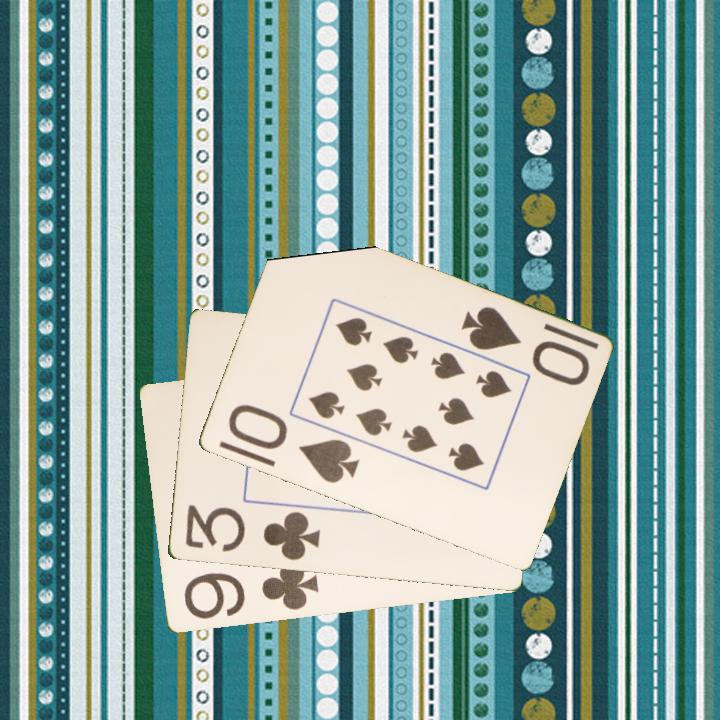10s: (224, 400, 362, 487), (456, 302, 592, 389)
3c: (181, 501, 323, 564)
9c: (180, 558, 321, 623)
